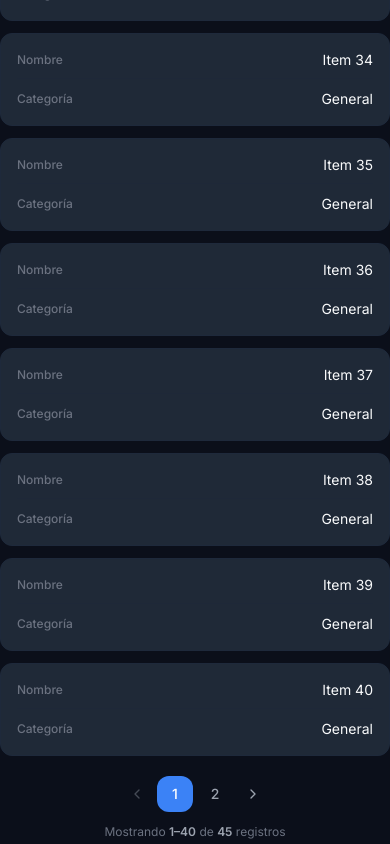
Test: DataTable › reinicia a la primera página al buscar
(page scrolled)
Click the button named "Página siguiente": (253,794) [237, 778, 269, 810]
(page scrolled)
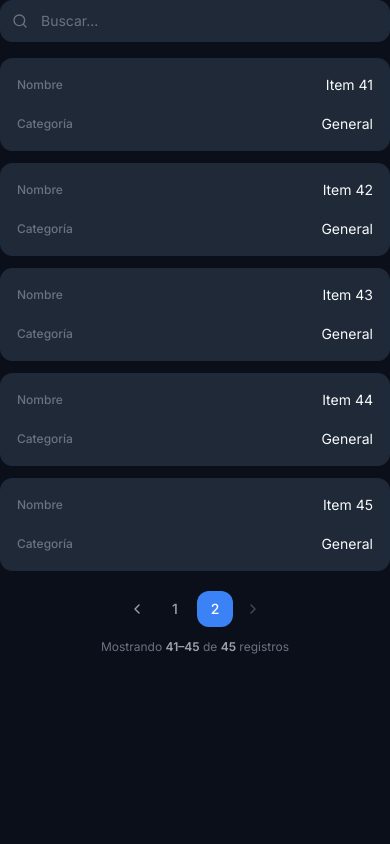
In the field with placeholder "Buscar...": (195,21) [0, 0, 389, 42], type "Item"
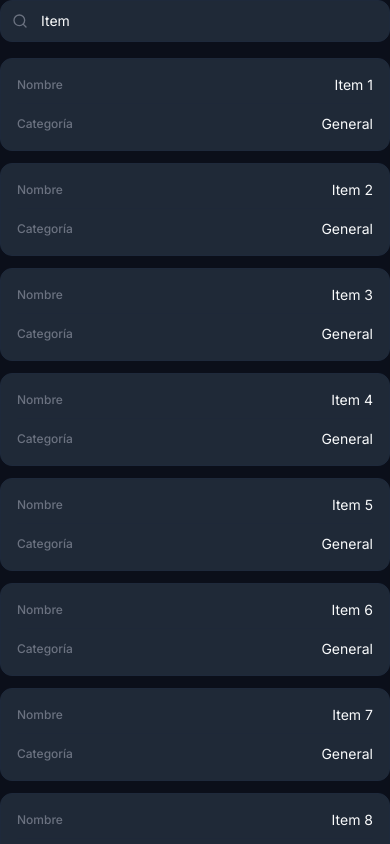
Now the text "Item 1" is shown, box [334, 75, 373, 95]
